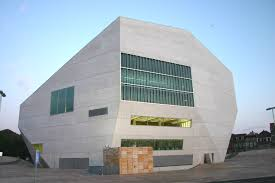musica: (18, 16, 238, 172)
